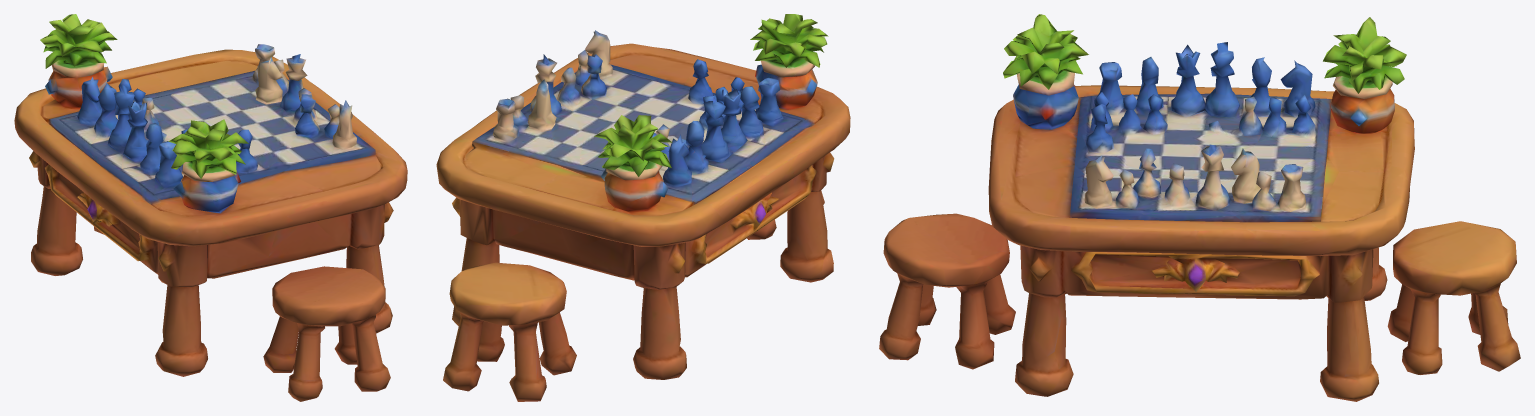
The model's file is chess_table.glb.
3 views of the same model, side by side, from view 1: azimuth 30°, elevation 25°; view 2: azimuth 150°, elevation 25°; view 3: azimuth 270°, elevation 25° (orthographic). The views are drawn at different scales.
Parts seen in each view (by area): view 1: tripo_node_fe347266-acd9-4618-ba3d-bf706eddc7e0; view 2: tripo_node_fe347266-acd9-4618-ba3d-bf706eddc7e0; view 3: tripo_node_fe347266-acd9-4618-ba3d-bf706eddc7e0.
Boxes of the visible parts, box(x1,y1,x2,y2) form: tripo_node_fe347266-acd9-4618-ba3d-bf706eddc7e0: box(14, 14, 407, 401); tripo_node_fe347266-acd9-4618-ba3d-bf706eddc7e0: box(436, 14, 850, 401); tripo_node_fe347266-acd9-4618-ba3d-bf706eddc7e0: box(879, 14, 1520, 401).
Bounding box in the file's own units: 0.6979 × 0.5999 × 1.26.
1 material, 1 textured.
